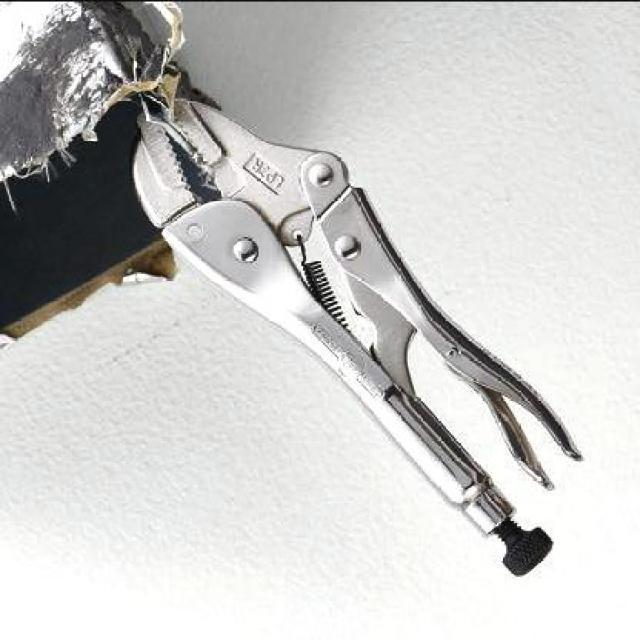pliers: (132, 90, 596, 572)
